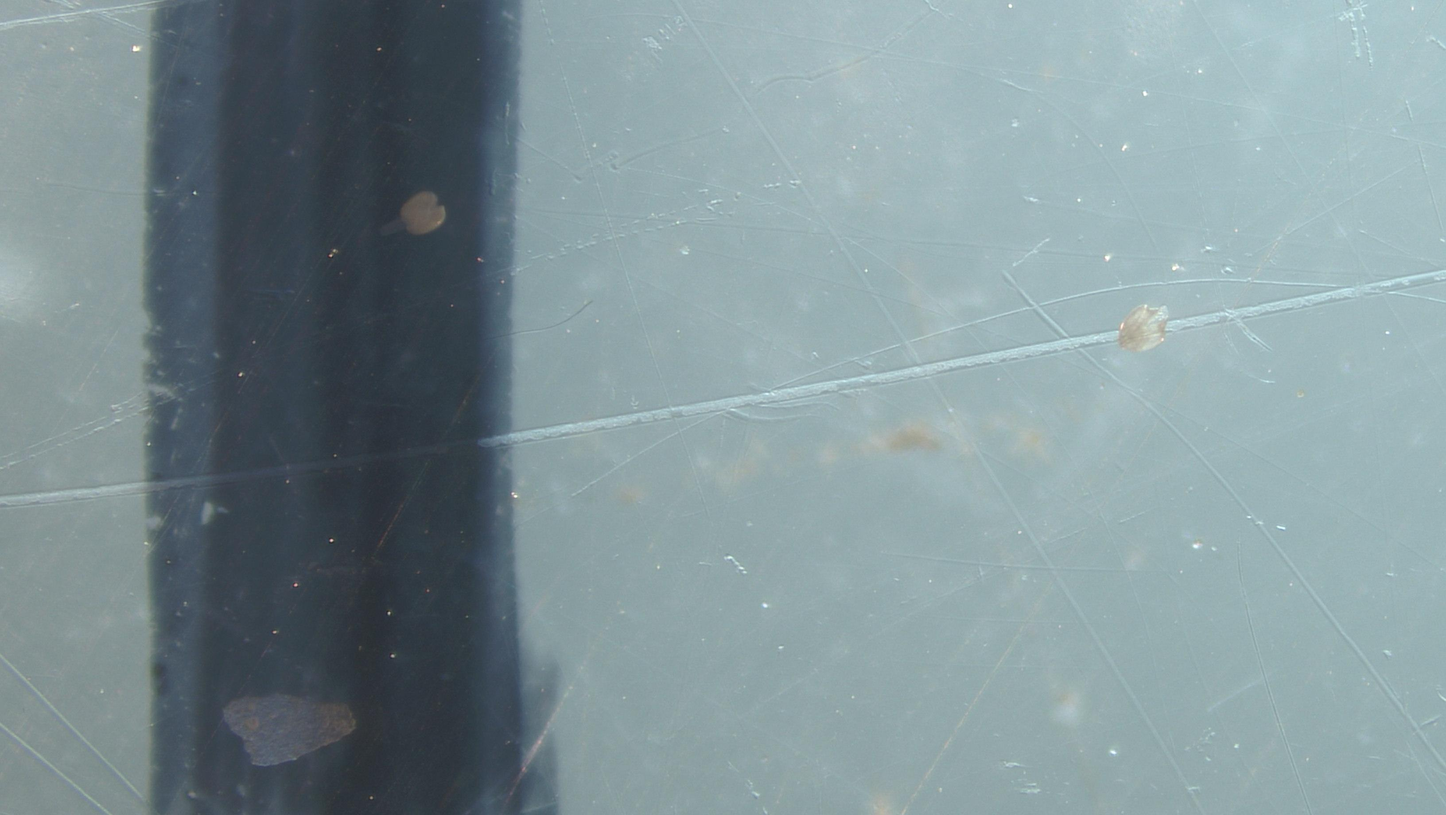live: (381, 191, 447, 234), (1117, 305, 1168, 353)
